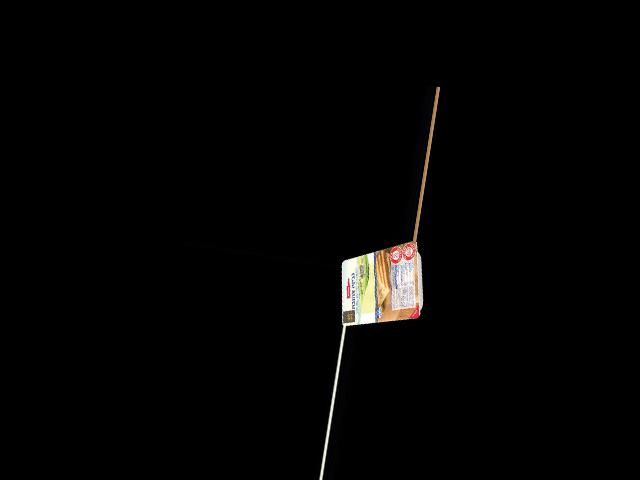cheese: (334, 245, 428, 329)
